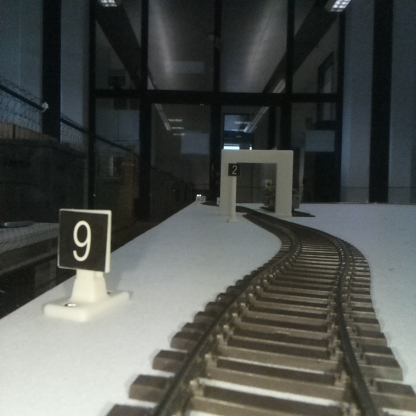black-info-2: (227, 162, 240, 222)
black-stop-9: (59, 212, 108, 314)
